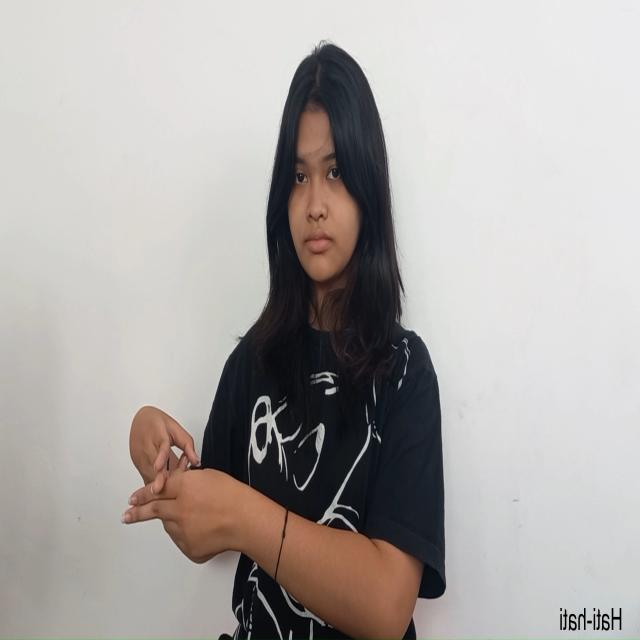Hati-hati -BISINDO-: (120, 404, 250, 566)
